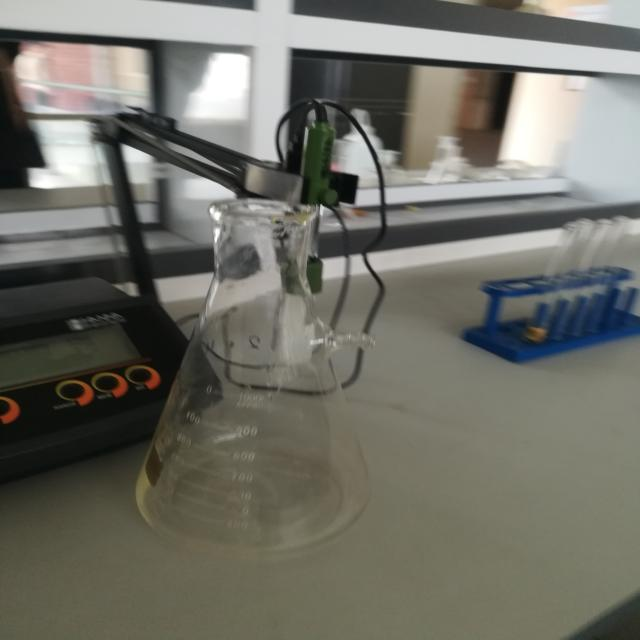Conical_Flask: (93, 170, 433, 590)
